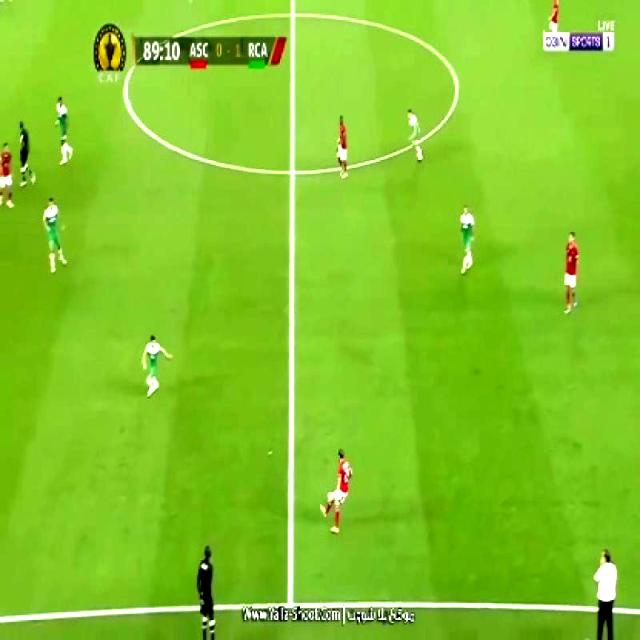halfcircle_bottom: (280, 154, 305, 189)
halfcircle_top: (280, 0, 305, 28)
midline_bottom_intersection: (276, 584, 306, 612)
